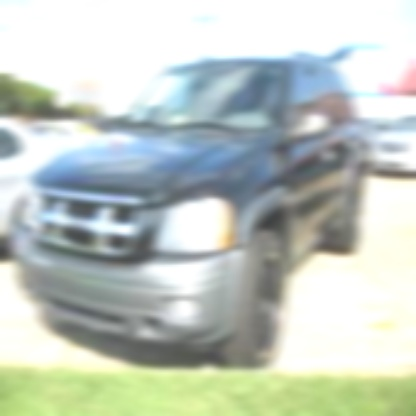Vehicle: (13, 49, 374, 373)
